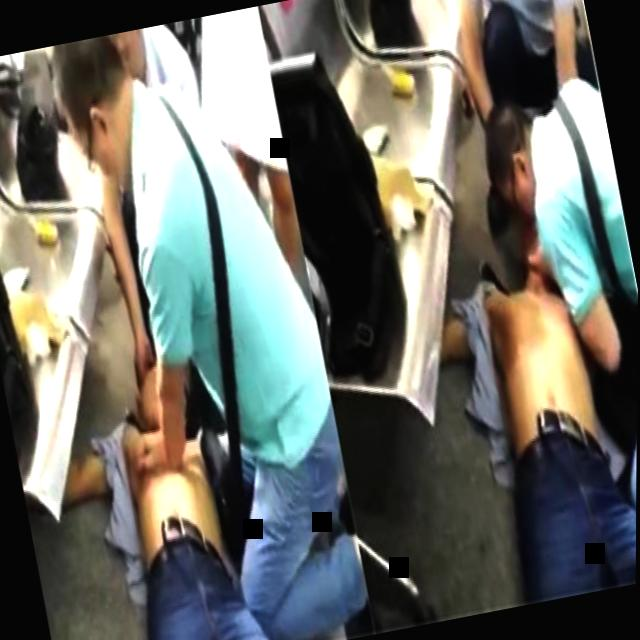Fall-Detected: (45, 314, 300, 640)
